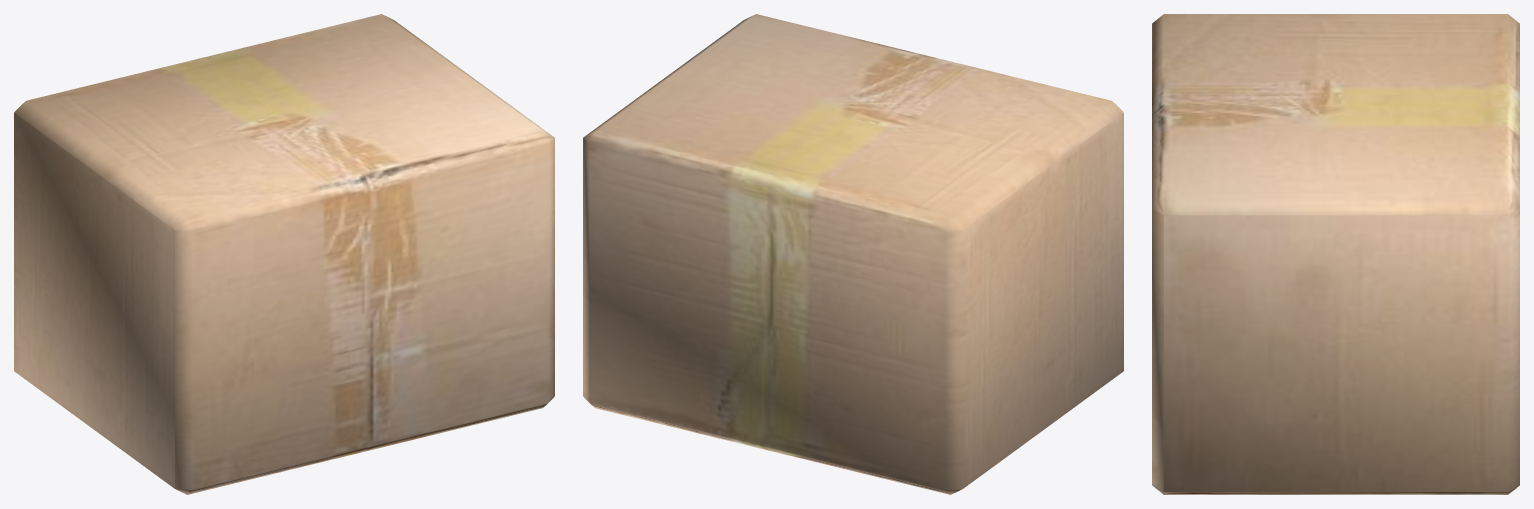
Rendered from caja_carton.glb.
The picture shows the model from 3 angles, left to right: view 1: azimuth 30°, elevation 25°; view 2: azimuth 150°, elevation 25°; view 3: azimuth 270°, elevation 25°; orthographic projection. The views are drawn at different scales.
Parts seen in each view (by area): view 1: caja_carton; view 2: caja_carton; view 3: caja_carton.
Part boxes in pixels (x1,y1,x2,y2): caja_carton: (14, 14, 554, 494); caja_carton: (583, 14, 1123, 494); caja_carton: (1152, 14, 1519, 494).
Bounding box in the file's own units: 0.45 × 0.313 × 0.353.
Materials: 1 (1 with a texture image).
